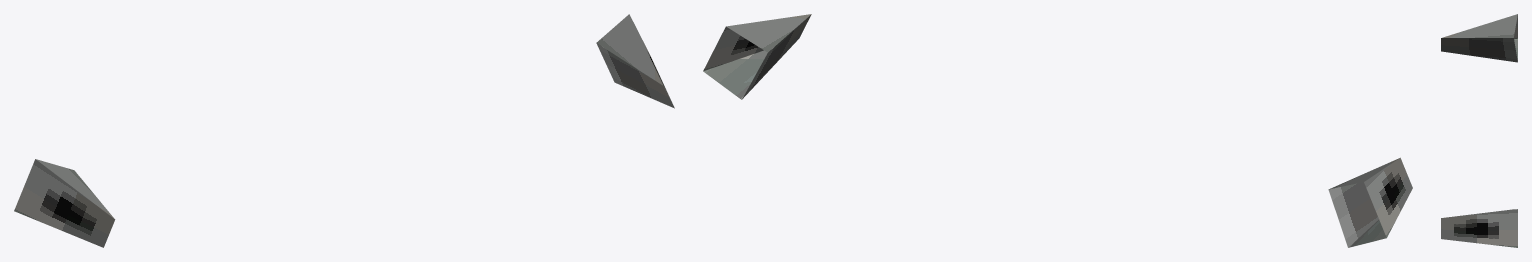
File: hutt_fighter_medium_weapon2_s03_l3.fbx
3 views of the same model, side by side, from view 1: azimuth 30°, elevation 25°; view 2: azimuth 150°, elevation 25°; view 3: azimuth 270°, elevation 25° (orthographic). The views are drawn at different scales.
Parts seen in each view (by area): view 1: mesh_node; view 2: mesh_node; view 3: mesh_node.
Part boxes in pixels (x1,y1,x2,y2): mesh_node: (14, 14, 674, 247); mesh_node: (703, 14, 1412, 247); mesh_node: (1441, 14, 1517, 247).
Size of the model in its own units: 3.25 by 0.3163 by 0.5037.
